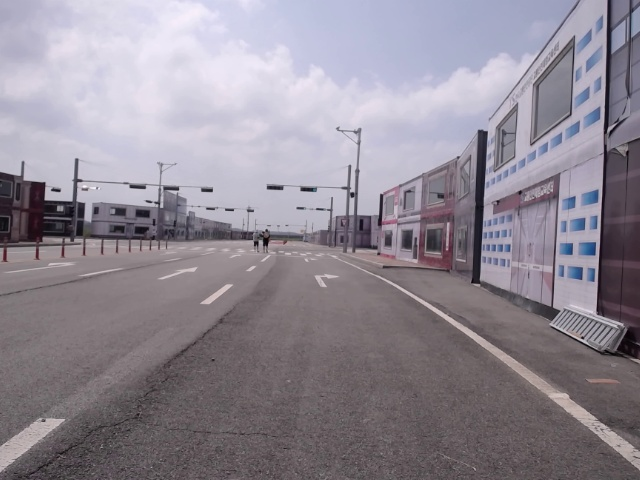straight_green_4: (300, 186, 318, 193)
